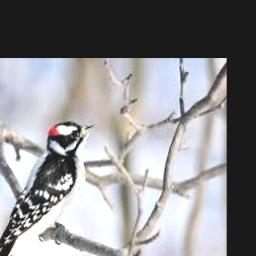Woodpecker: (0, 122, 97, 256)
